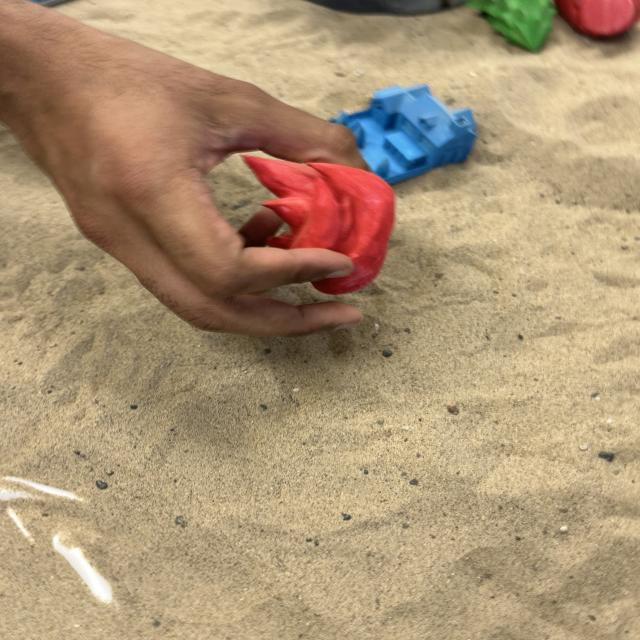fire: (237, 153, 397, 295)
house: (328, 83, 477, 185)
